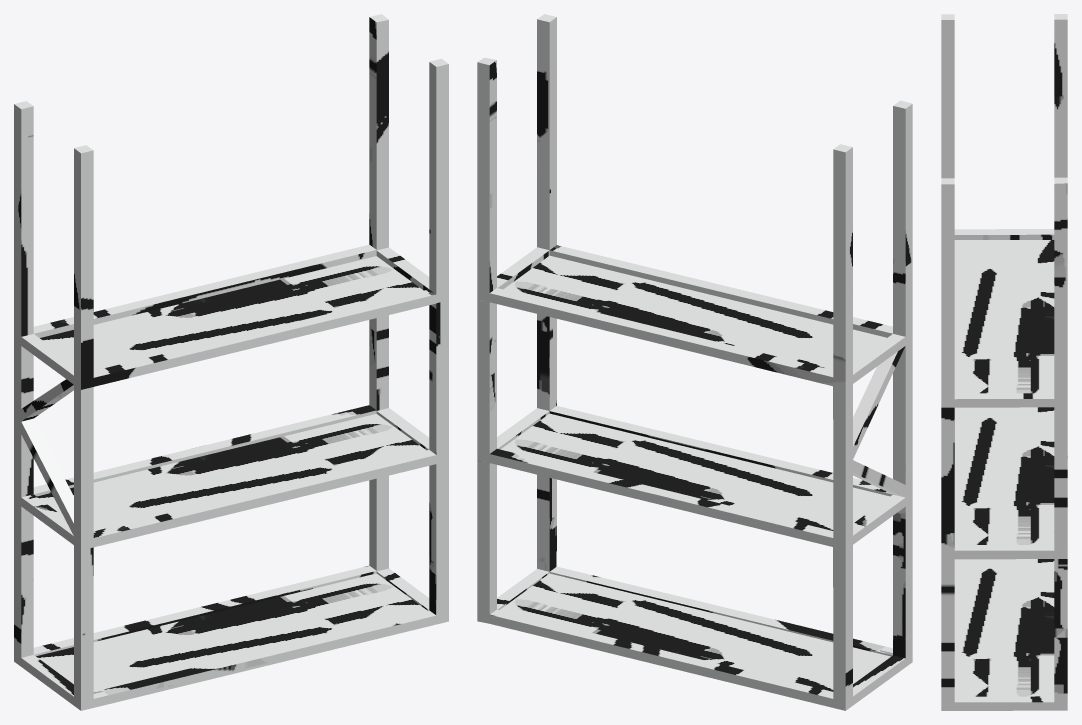
The model's file is Pod Shelves.FBX.
3 views of the same model, side by side, from view 1: azimuth 30°, elevation 25°; view 2: azimuth 150°, elevation 25°; view 3: azimuth 270°, elevation 25° (orthographic). The views are drawn at different scales.
Parts seen in each view (by area): view 1: Object119; view 2: Object119; view 3: Object119.
Boxes of the visible parts, x1=… form: Object119: x1=14, y1=14, x2=448, y2=710; Object119: x1=477, y1=14, x2=912, y2=710; Object119: x1=941, y1=14, x2=1067, y2=710.
Bounding box in the file's own units: 12.56 × 18.23 × 3.96.
